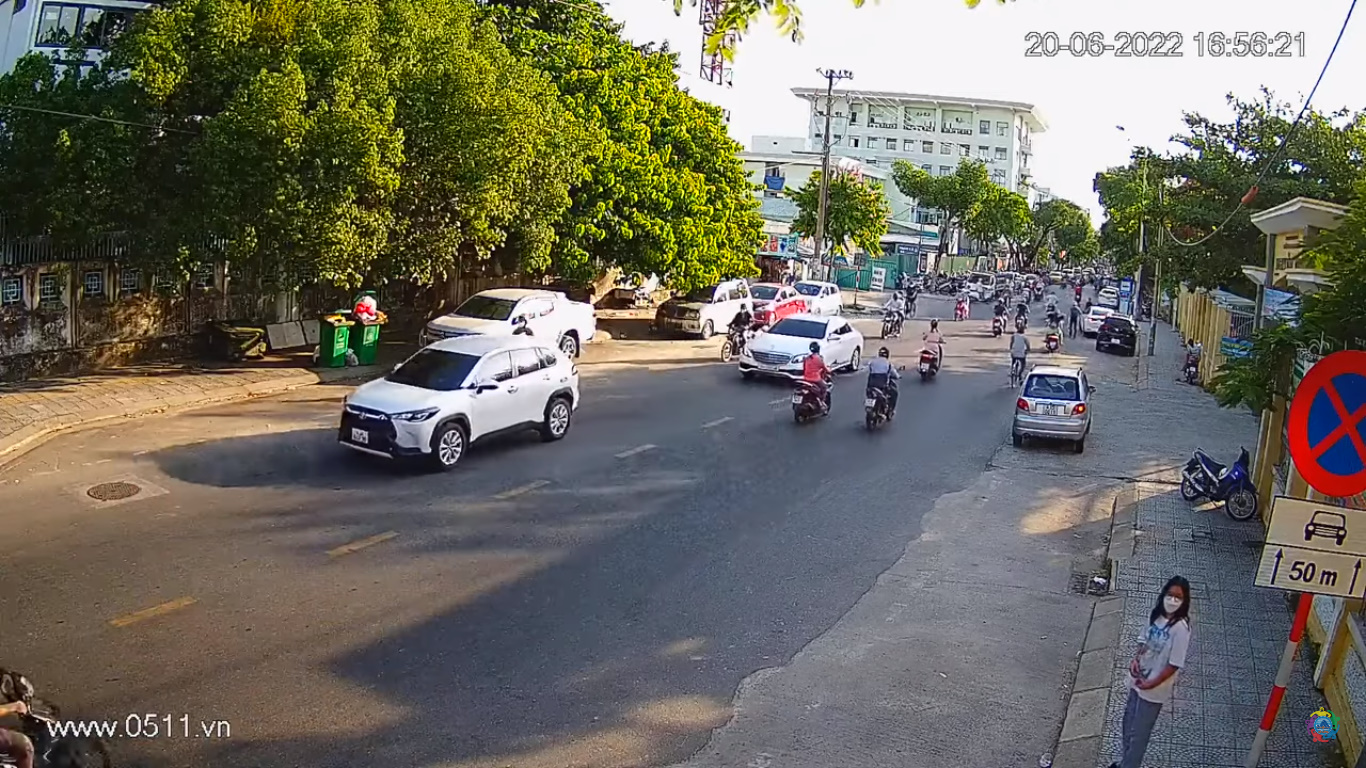car: (339, 337, 583, 465), (734, 309, 864, 385)
